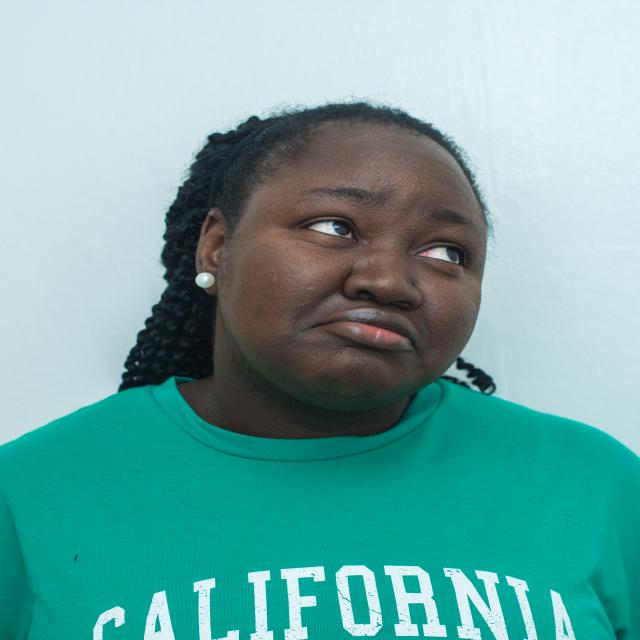sad: (202, 105, 493, 413)
